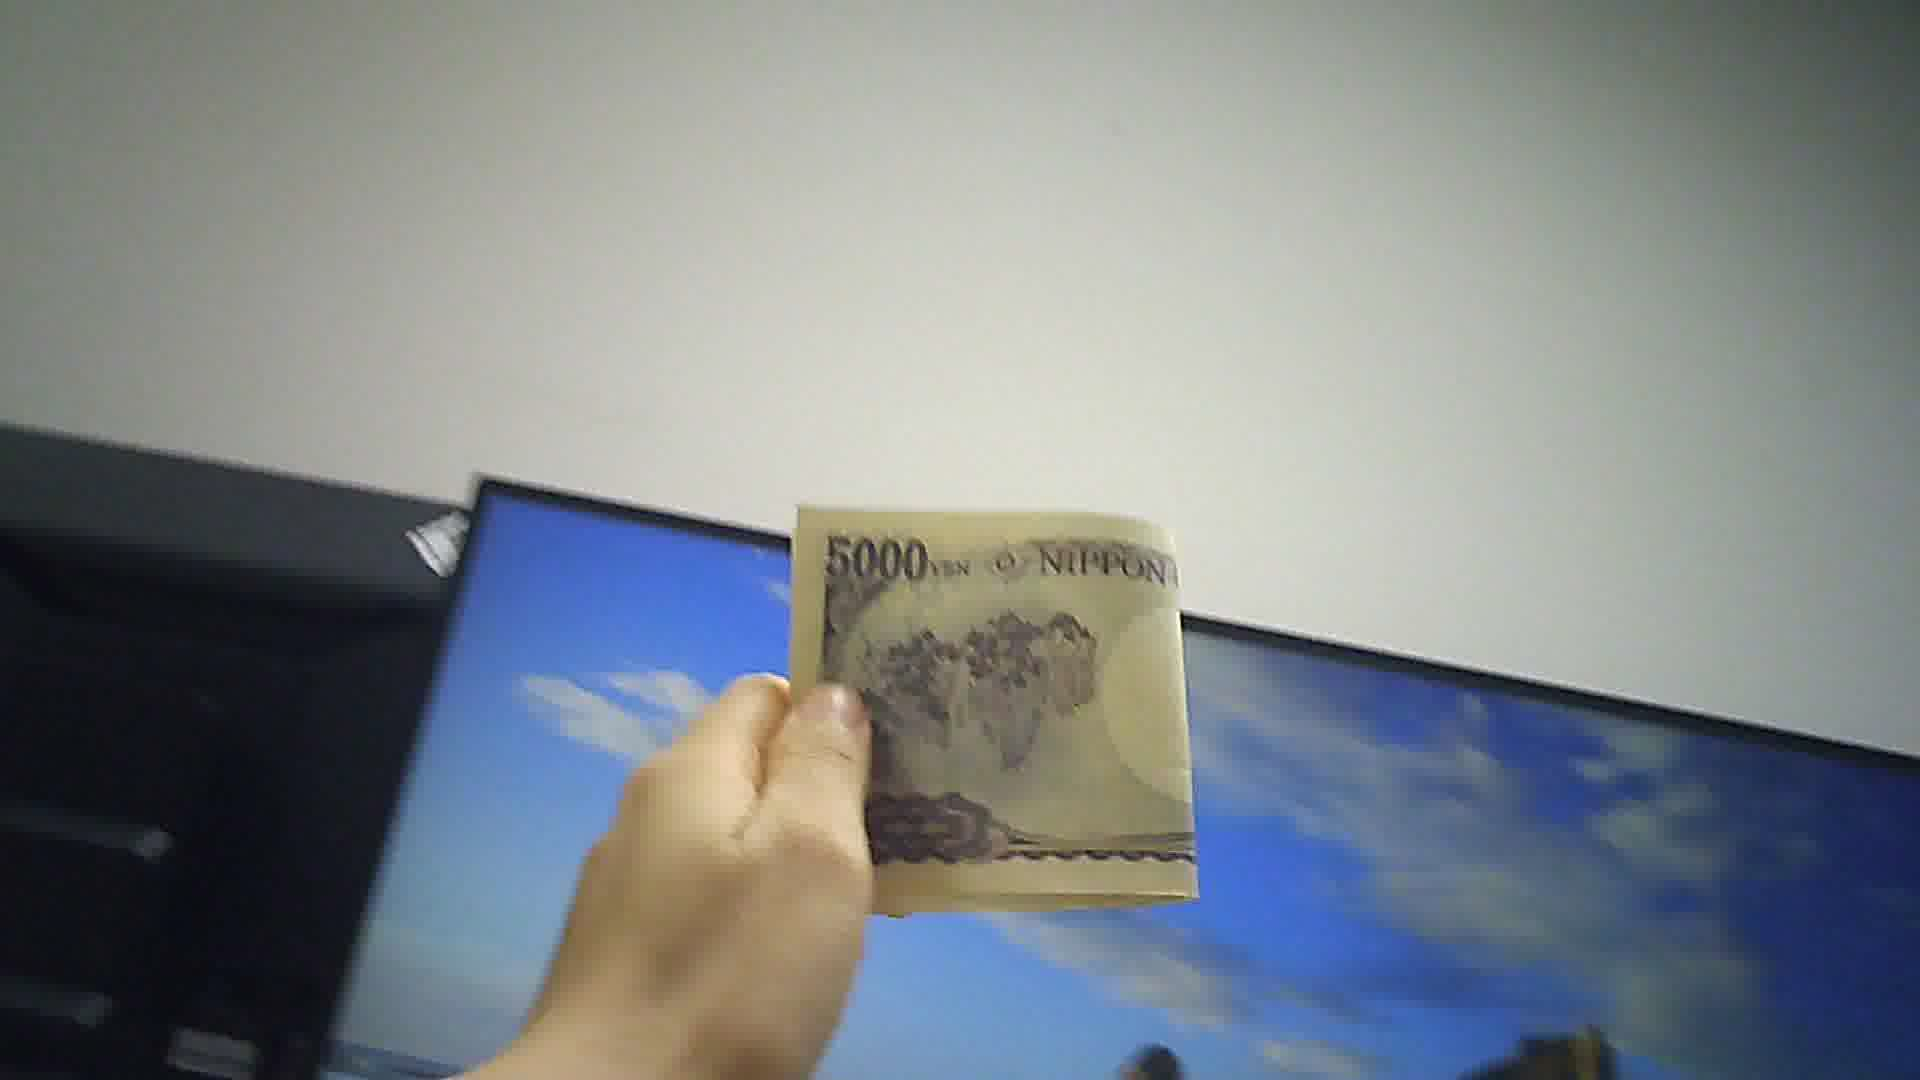5,000 Yen: (762, 491, 1255, 957)
